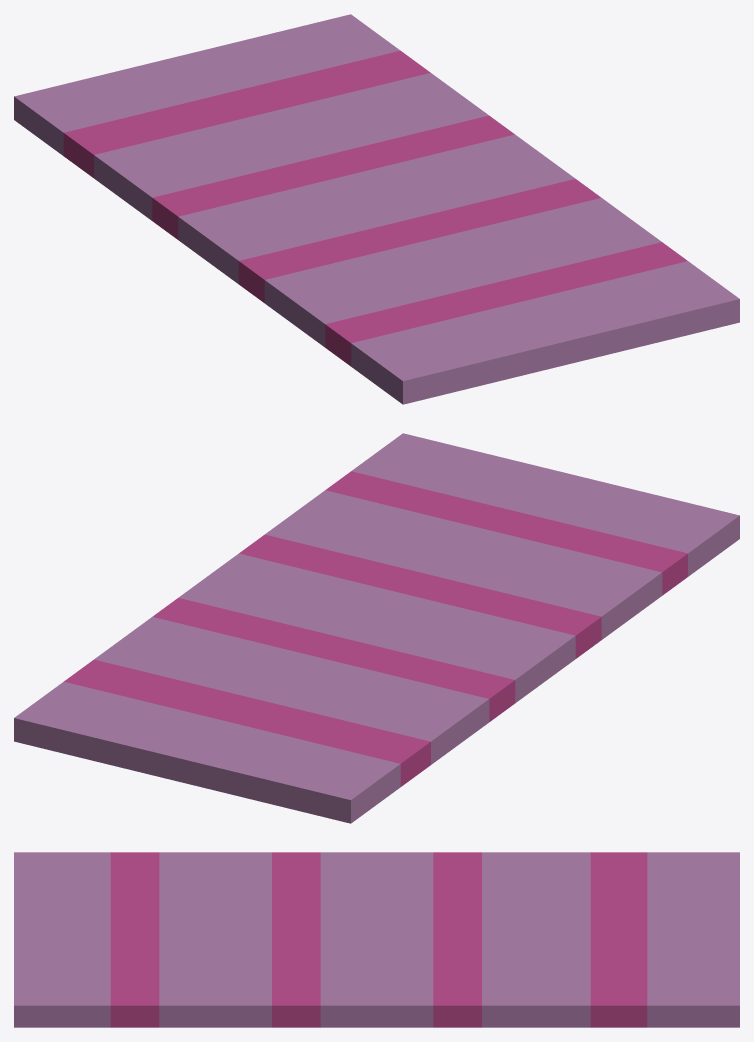
The model's file is Towel_Purple_01.fbx.
The picture shows the model from 3 angles, top to bottom: view 1: azimuth 30°, elevation 25°; view 2: azimuth 150°, elevation 25°; view 3: azimuth 270°, elevation 25°; orthographic projection. The views are drawn at different scales.
Parts seen in each view (by area): view 1: Towel_Purple_01; view 2: Towel_Purple_01; view 3: Towel_Purple_01.
Part boxes in pixels (x1,y1,x2,y2): Towel_Purple_01: (14,14,739,404); Towel_Purple_01: (14,433,739,823); Towel_Purple_01: (14,852,739,1027).
Size of the model in its own units: 3 by 0.2 by 6.
